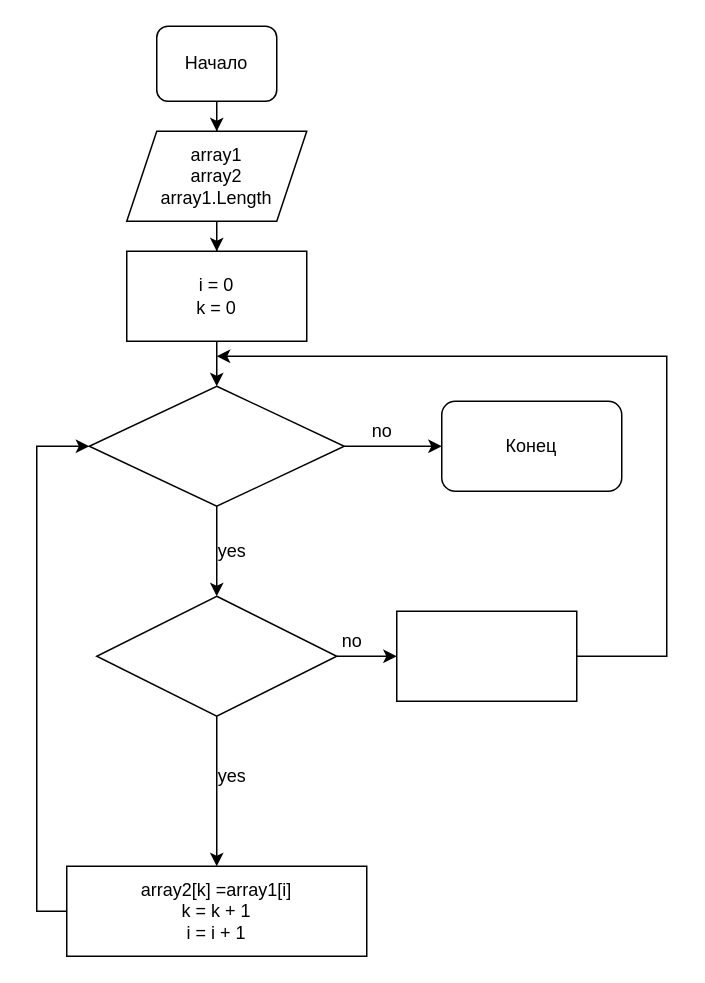
This 705x983 diagram has some shape labels left out. Here are the shapes that lost their labels. From the top down, the box of each, then its label:
(88, 385, 344, 506): i < array1.Length
(95, 595, 337, 716): array1[i].Length <=3
(395, 610, 577, 701): i = i + 1
